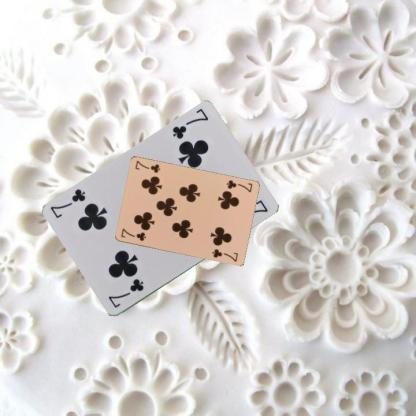7c: (170, 106, 210, 141), (105, 276, 145, 310), (118, 226, 147, 242), (224, 178, 253, 194)
